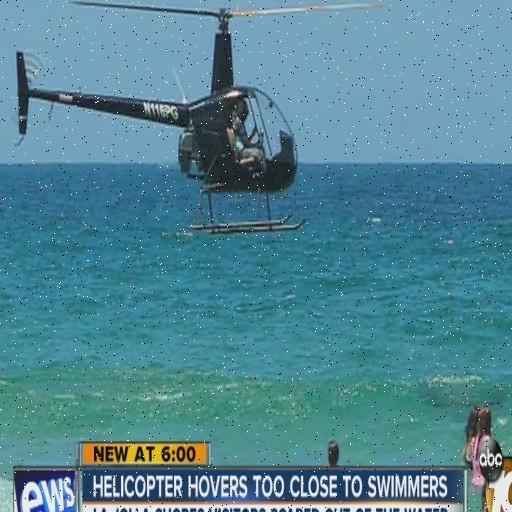helicopter: (13, 1, 384, 236)
